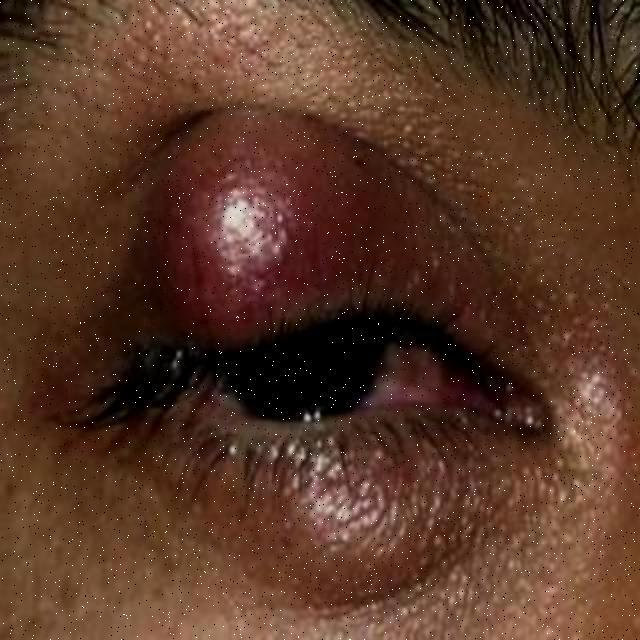Stye: (138, 94, 436, 376)
